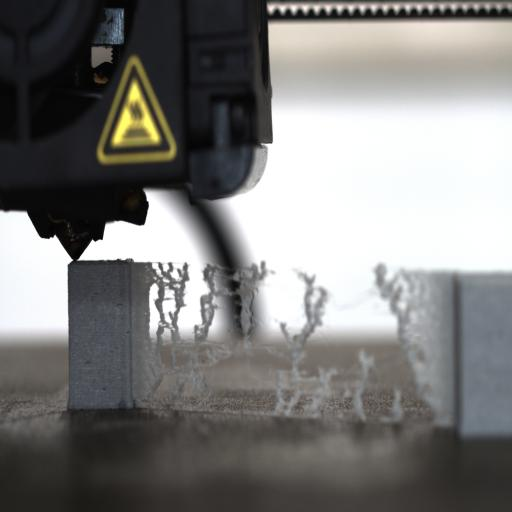stringing: (206, 258, 272, 346), (149, 261, 190, 348)
